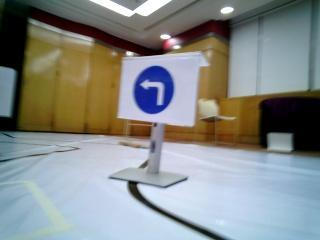left: (127, 62, 180, 122)
